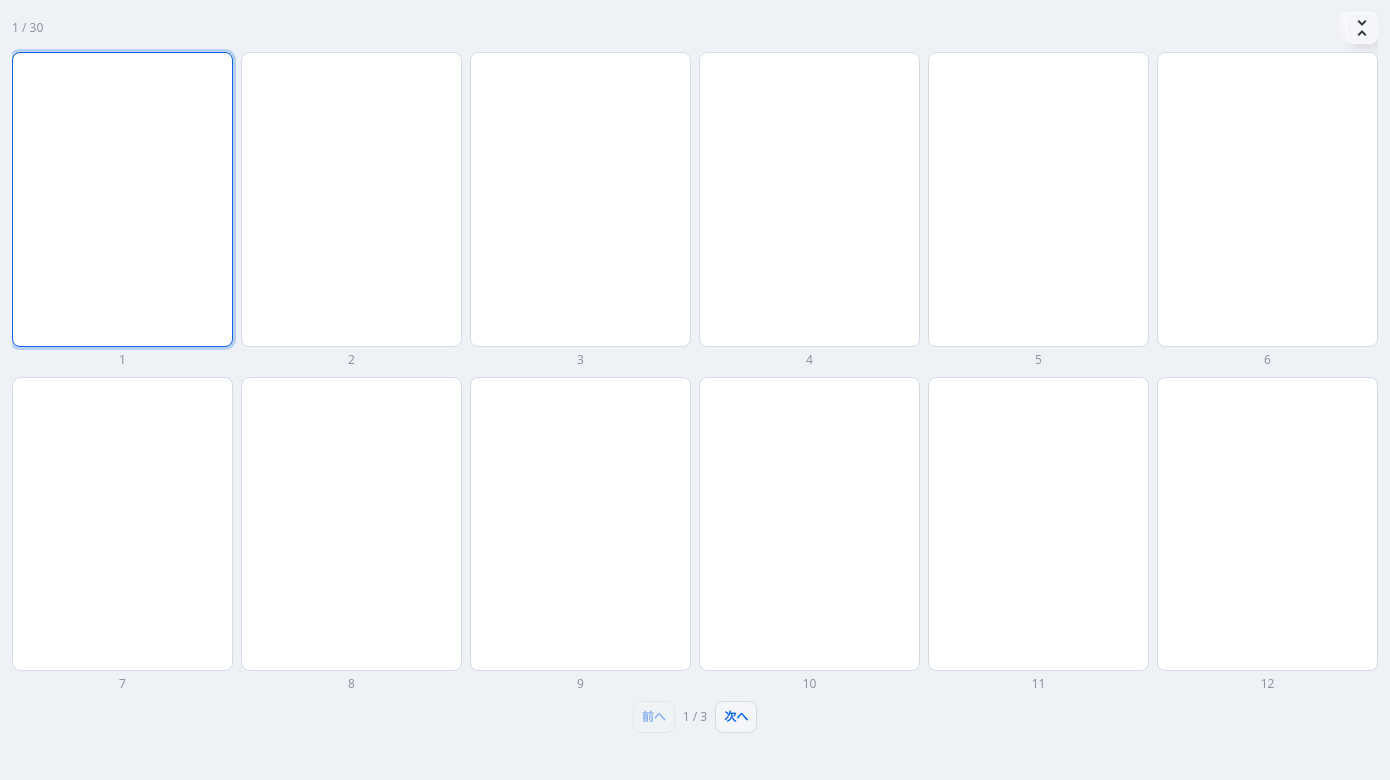
Test: PageThumbnailStrip › サムネイルを12枚ずつページ送りする
The image size is (1390, 780).
Expected: the button with test id "thumbnail-page-12" is shown, top-left (1157, 377), bottom-right (1378, 693)
Expected: the text with test id "thumbnail-pagination-status" reads "1 / 3", top-left (683, 708), bottom-right (707, 725)
Click the button with aria-label "次のサムネイルページ".
click(736, 717)  # box top-left (715, 701), bottom-right (757, 733)
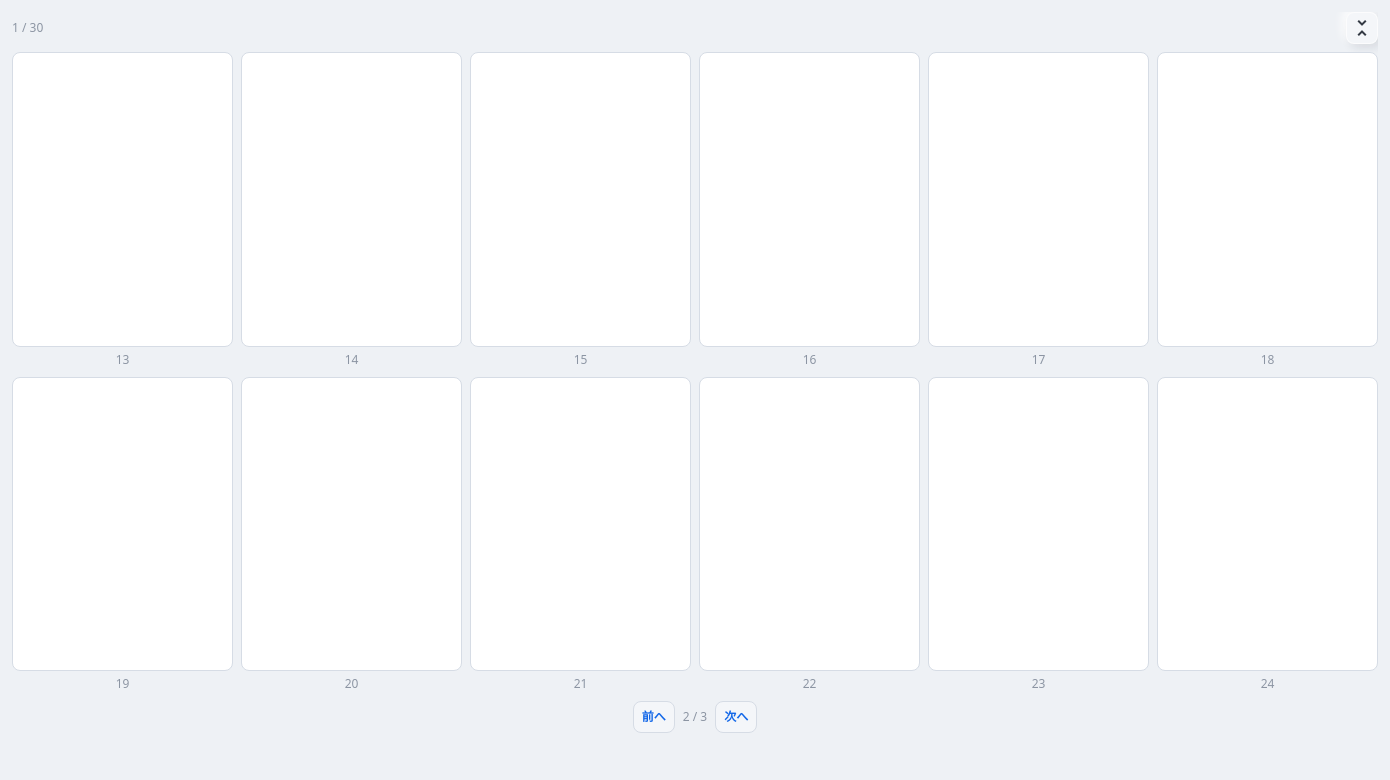
Expected: the button with test id "thumbnail-page-13" is shown, top-left (12, 52), bottom-right (233, 369)
Now the text with test id "thumbnail-pagination-status" reads "2 / 3", box top-left (683, 708), bottom-right (707, 725)
Click the button with aria-label "次のサムネイルページ".
click(736, 717)  # box top-left (715, 701), bottom-right (757, 733)
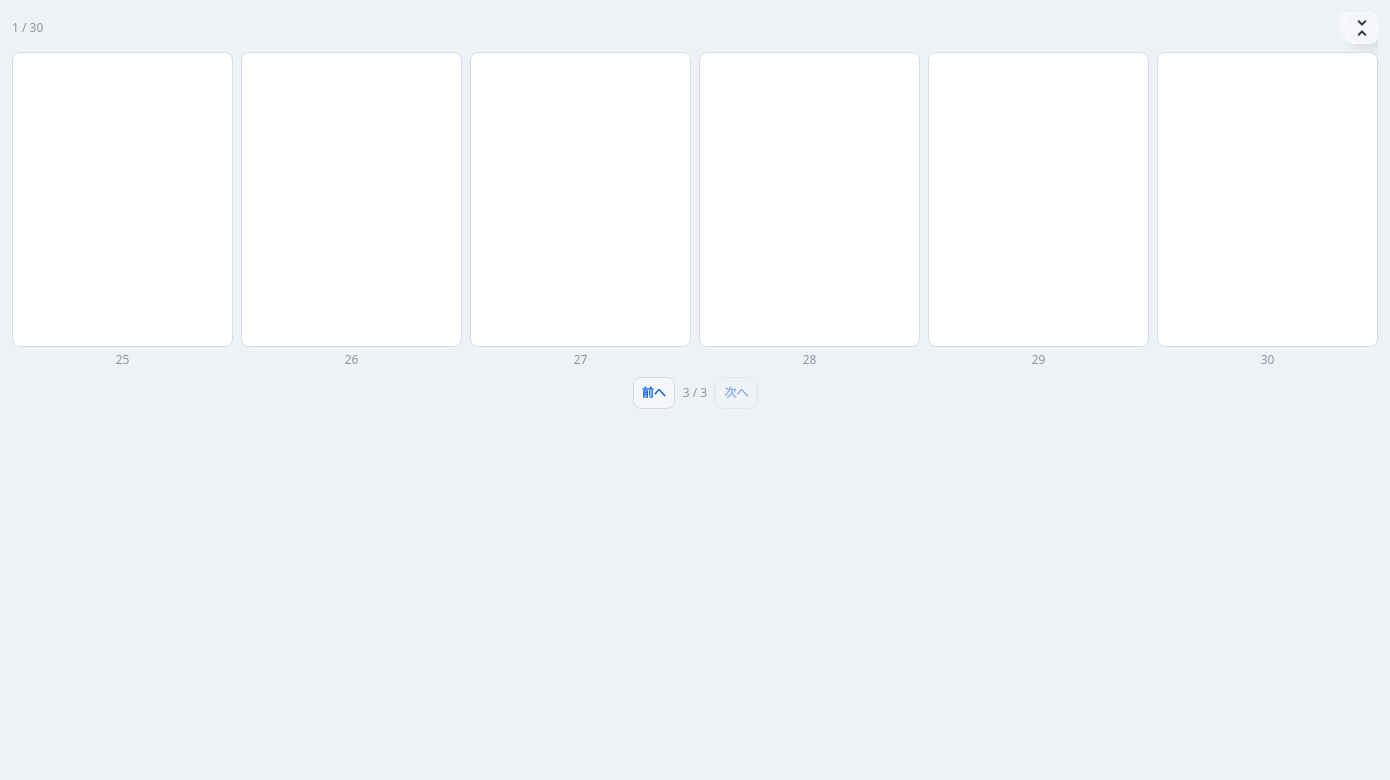
Now the number of buttons with class "thumbnail-strip__item" is 6, box top-left (12, 52), bottom-right (233, 369); top-left (241, 52), bottom-right (462, 369); top-left (470, 52), bottom-right (691, 369); top-left (699, 52), bottom-right (920, 369); top-left (928, 52), bottom-right (1149, 369); top-left (1157, 52), bottom-right (1378, 369)
Now the button with test id "thumbnail-page-25" is shown, box top-left (12, 52), bottom-right (233, 369)
Now the button with test id "thumbnail-page-30" is shown, box top-left (1157, 52), bottom-right (1378, 369)
